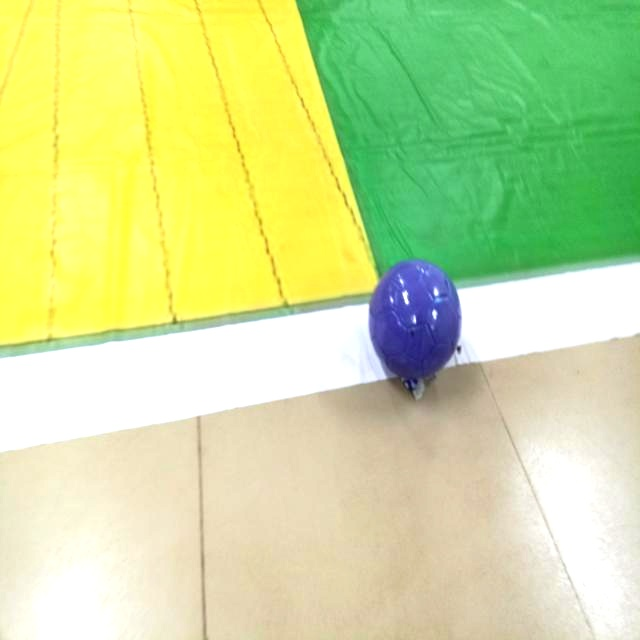purple_ball: (368, 256, 469, 402)
